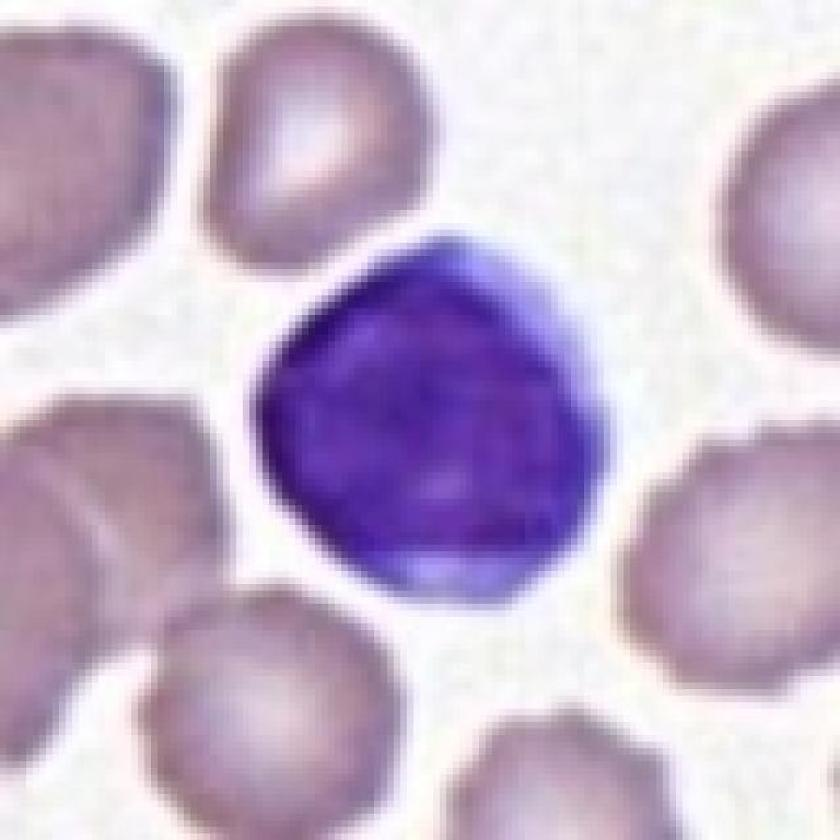lymphocyte: (244, 219, 624, 616)
